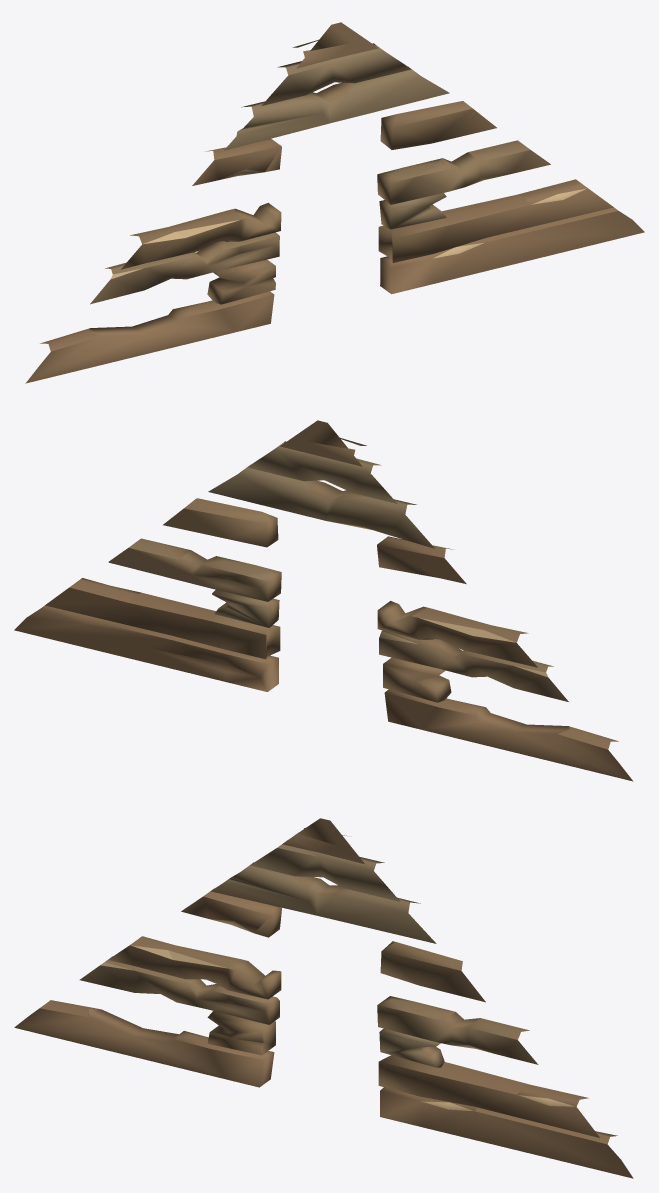
Rendered from rpgpp_av_roof_end_01_9x4_wall_door_01a.gltf.
3 renders of one model, top to bottom at view 1: azimuth 30°, elevation 25°; view 2: azimuth 150°, elevation 25°; view 3: azimuth 330°, elevation 25°, orthographic.
Visible parts, largest first — view 1: rpgpp_av_roof_end_01_9x4_wall_door_01a; view 2: rpgpp_av_roof_end_01_9x4_wall_door_01a; view 3: rpgpp_av_roof_end_01_9x4_wall_door_01a.
Boxes of the visible parts, left/top/right/bottom form: rpgpp_av_roof_end_01_9x4_wall_door_01a: left=25, top=22, right=644, bottom=383; rpgpp_av_roof_end_01_9x4_wall_door_01a: left=14, top=420, right=633, bottom=781; rpgpp_av_roof_end_01_9x4_wall_door_01a: left=14, top=818, right=633, bottom=1178.
Bounding box in the file's own units: 0.0968 × 0.0424 × 0.00387.
Materials: 1 (1 with a texture image).
